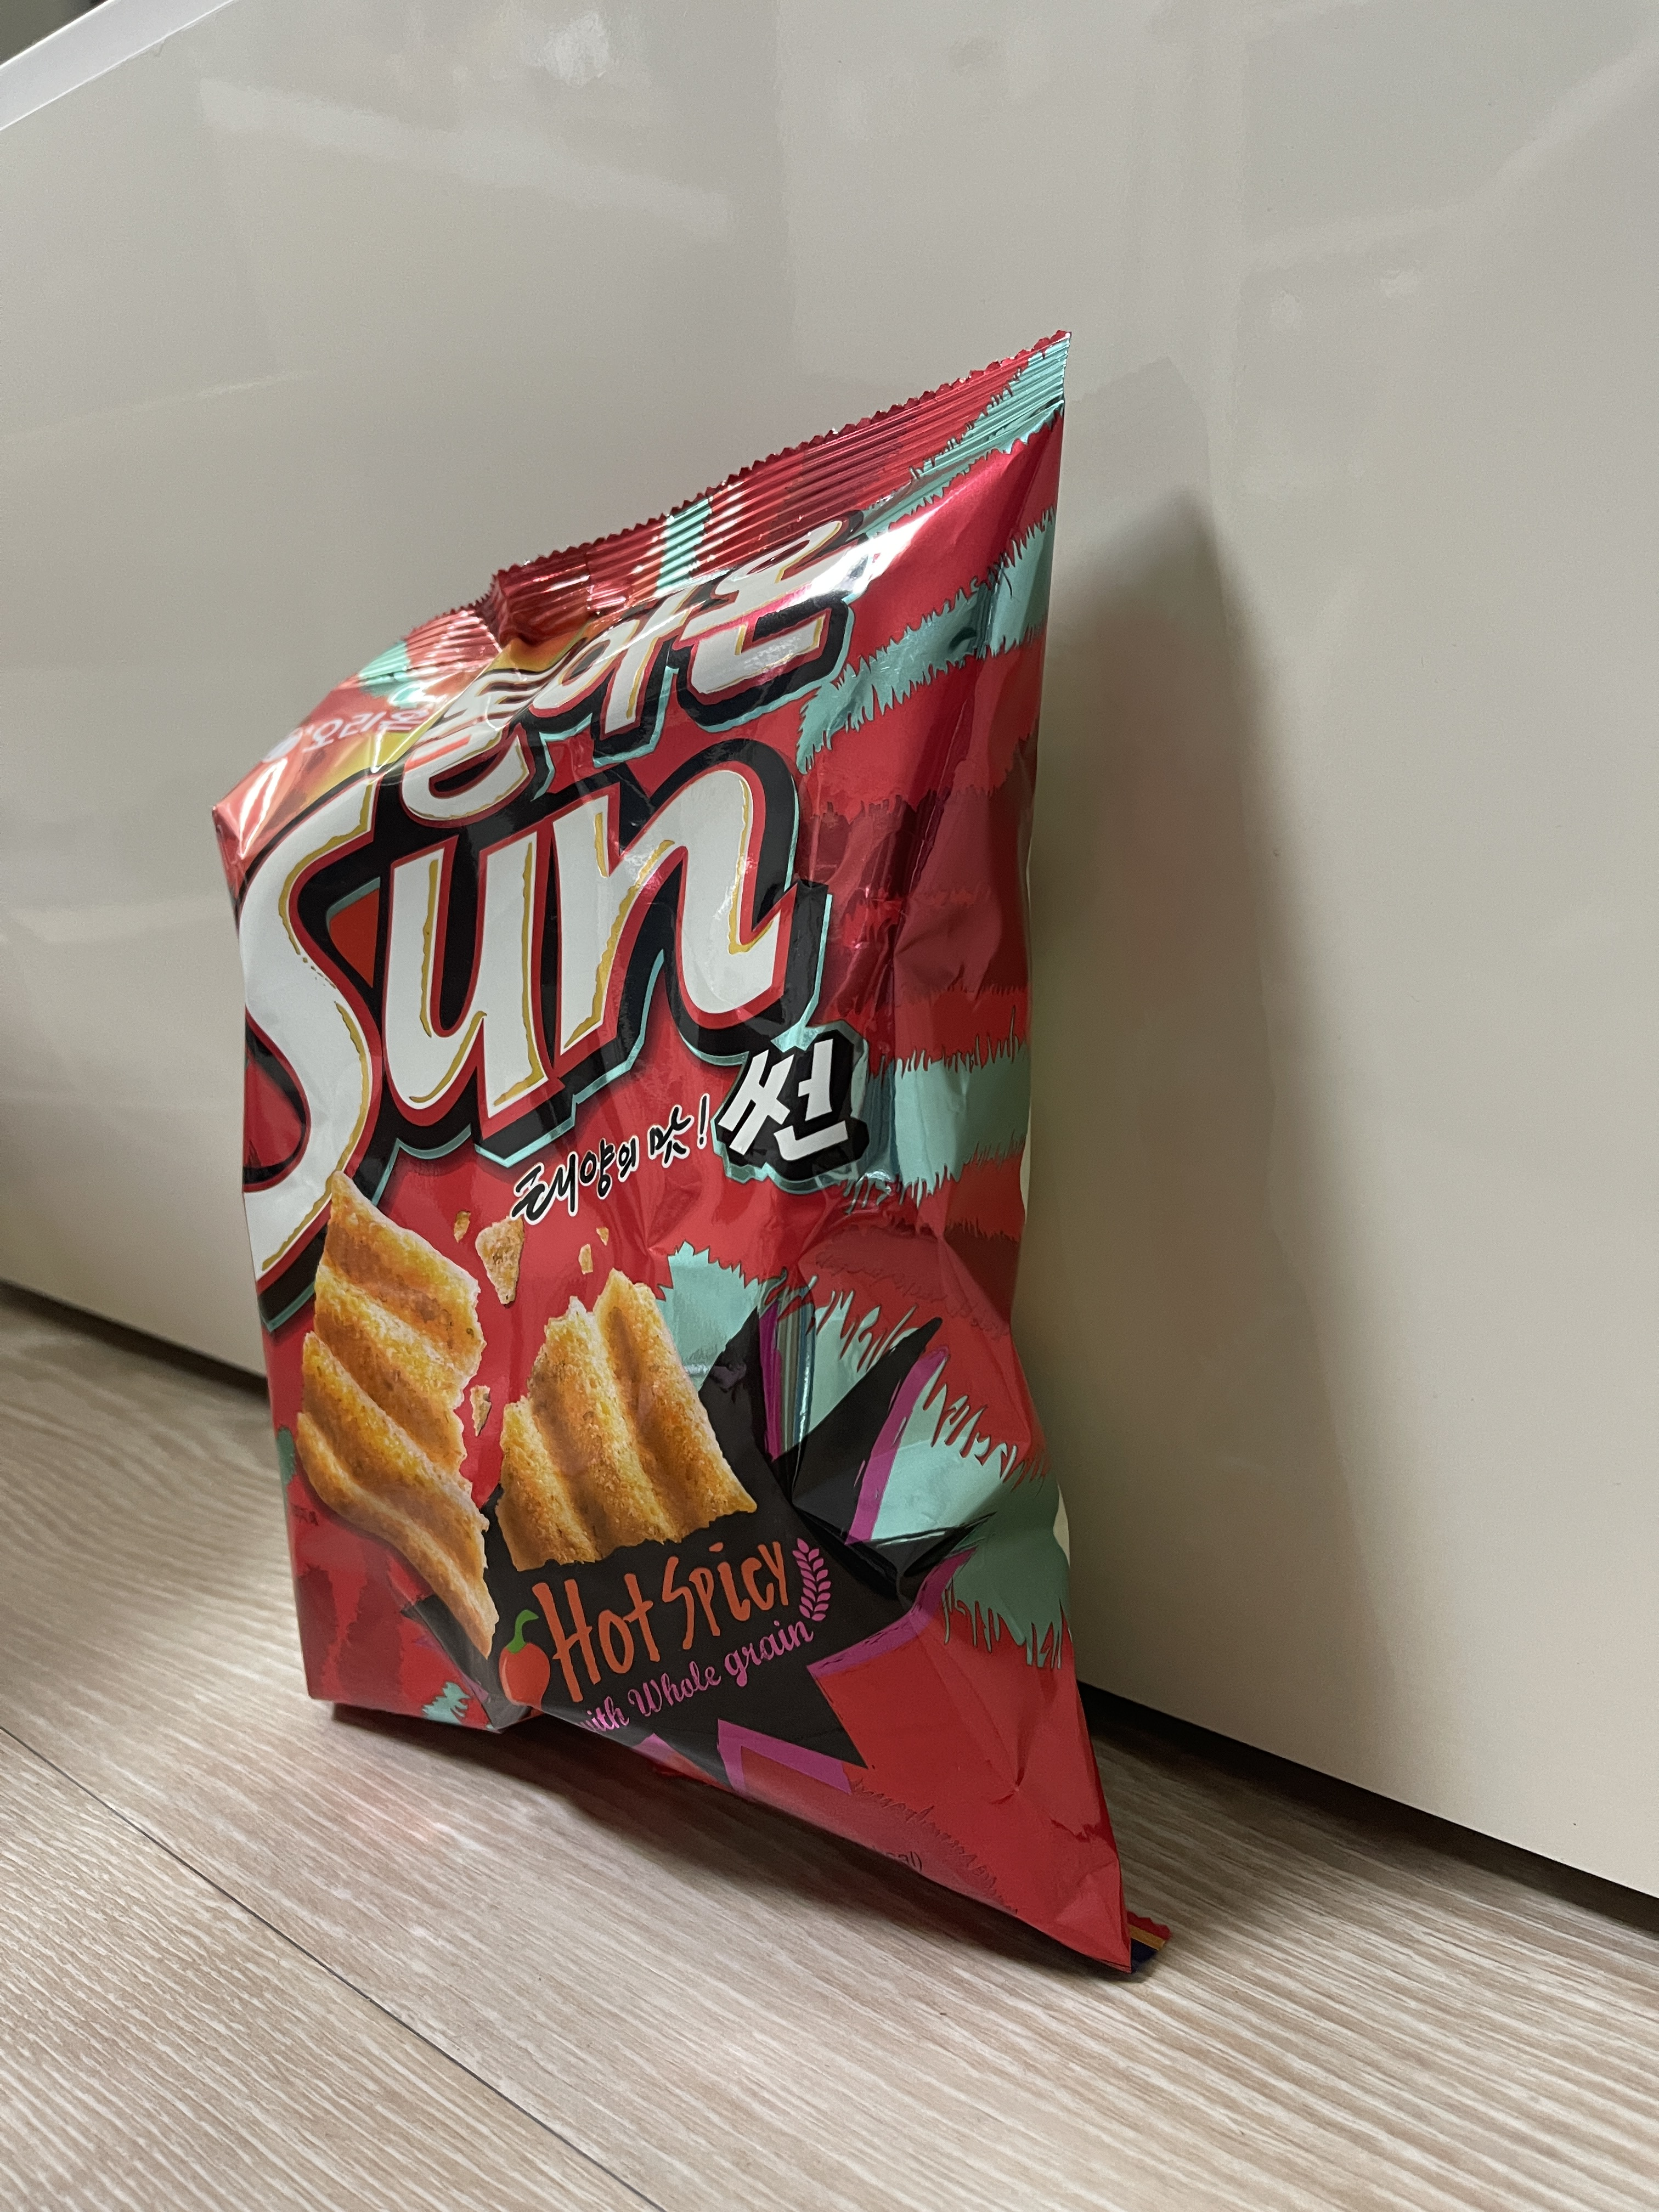snack: (197, 326, 1178, 1972)
